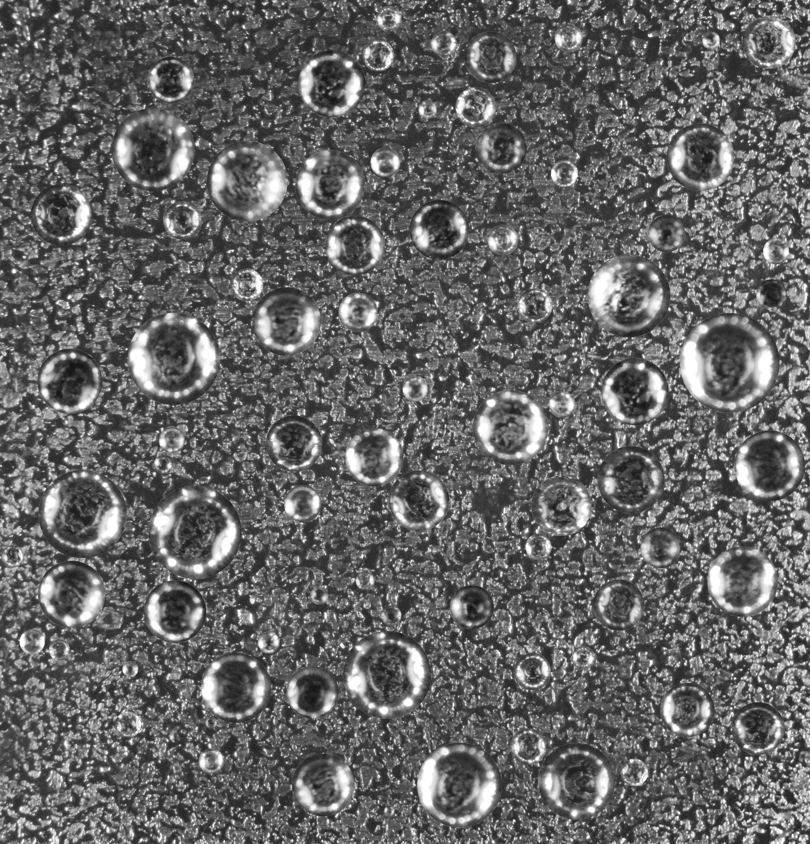Bubble: (680, 313, 779, 412), (148, 485, 241, 578), (127, 312, 219, 404), (38, 469, 126, 558), (343, 631, 431, 718), (417, 742, 501, 827), (587, 254, 670, 337), (111, 108, 194, 190), (206, 140, 287, 221), (538, 743, 615, 819), (473, 390, 548, 465), (734, 430, 805, 501), (707, 546, 777, 616), (295, 150, 364, 219), (201, 653, 270, 722), (252, 287, 320, 355), (666, 123, 734, 190), (38, 560, 105, 627), (597, 446, 664, 513), (601, 358, 668, 425), (298, 50, 365, 117), (37, 348, 102, 413), (291, 753, 354, 816), (143, 580, 206, 642), (30, 184, 92, 245), (388, 470, 449, 530), (531, 475, 591, 535), (325, 215, 384, 275), (409, 200, 469, 259), (345, 428, 403, 486), (266, 415, 322, 471), (660, 683, 714, 737), (742, 15, 795, 68), (732, 702, 784, 754), (286, 666, 338, 718), (464, 31, 516, 82), (593, 579, 644, 630), (475, 122, 526, 173), (147, 56, 194, 103), (450, 585, 493, 629), (640, 527, 681, 568), (455, 87, 496, 127), (338, 292, 377, 331), (163, 201, 201, 239), (648, 215, 685, 252), (284, 485, 321, 522), (513, 653, 550, 690), (510, 728, 546, 764), (517, 288, 552, 322), (230, 268, 263, 301), (362, 39, 393, 71), (756, 279, 787, 310), (487, 224, 518, 255), (370, 147, 400, 177), (554, 24, 582, 52), (620, 758, 648, 786), (551, 159, 578, 186), (158, 427, 184, 453), (549, 391, 575, 417), (115, 711, 141, 737), (763, 238, 789, 264), (525, 534, 551, 559), (376, 6, 401, 31), (402, 376, 427, 401), (431, 31, 456, 56), (198, 748, 223, 773), (19, 629, 44, 654), (571, 646, 594, 669), (1, 545, 23, 567), (48, 639, 69, 660), (258, 632, 279, 653), (381, 605, 401, 625), (154, 454, 173, 473), (355, 571, 374, 590), (418, 100, 436, 118), (702, 31, 720, 49), (310, 587, 328, 604), (122, 661, 138, 677), (205, 717, 216, 728), (384, 805, 394, 815)
